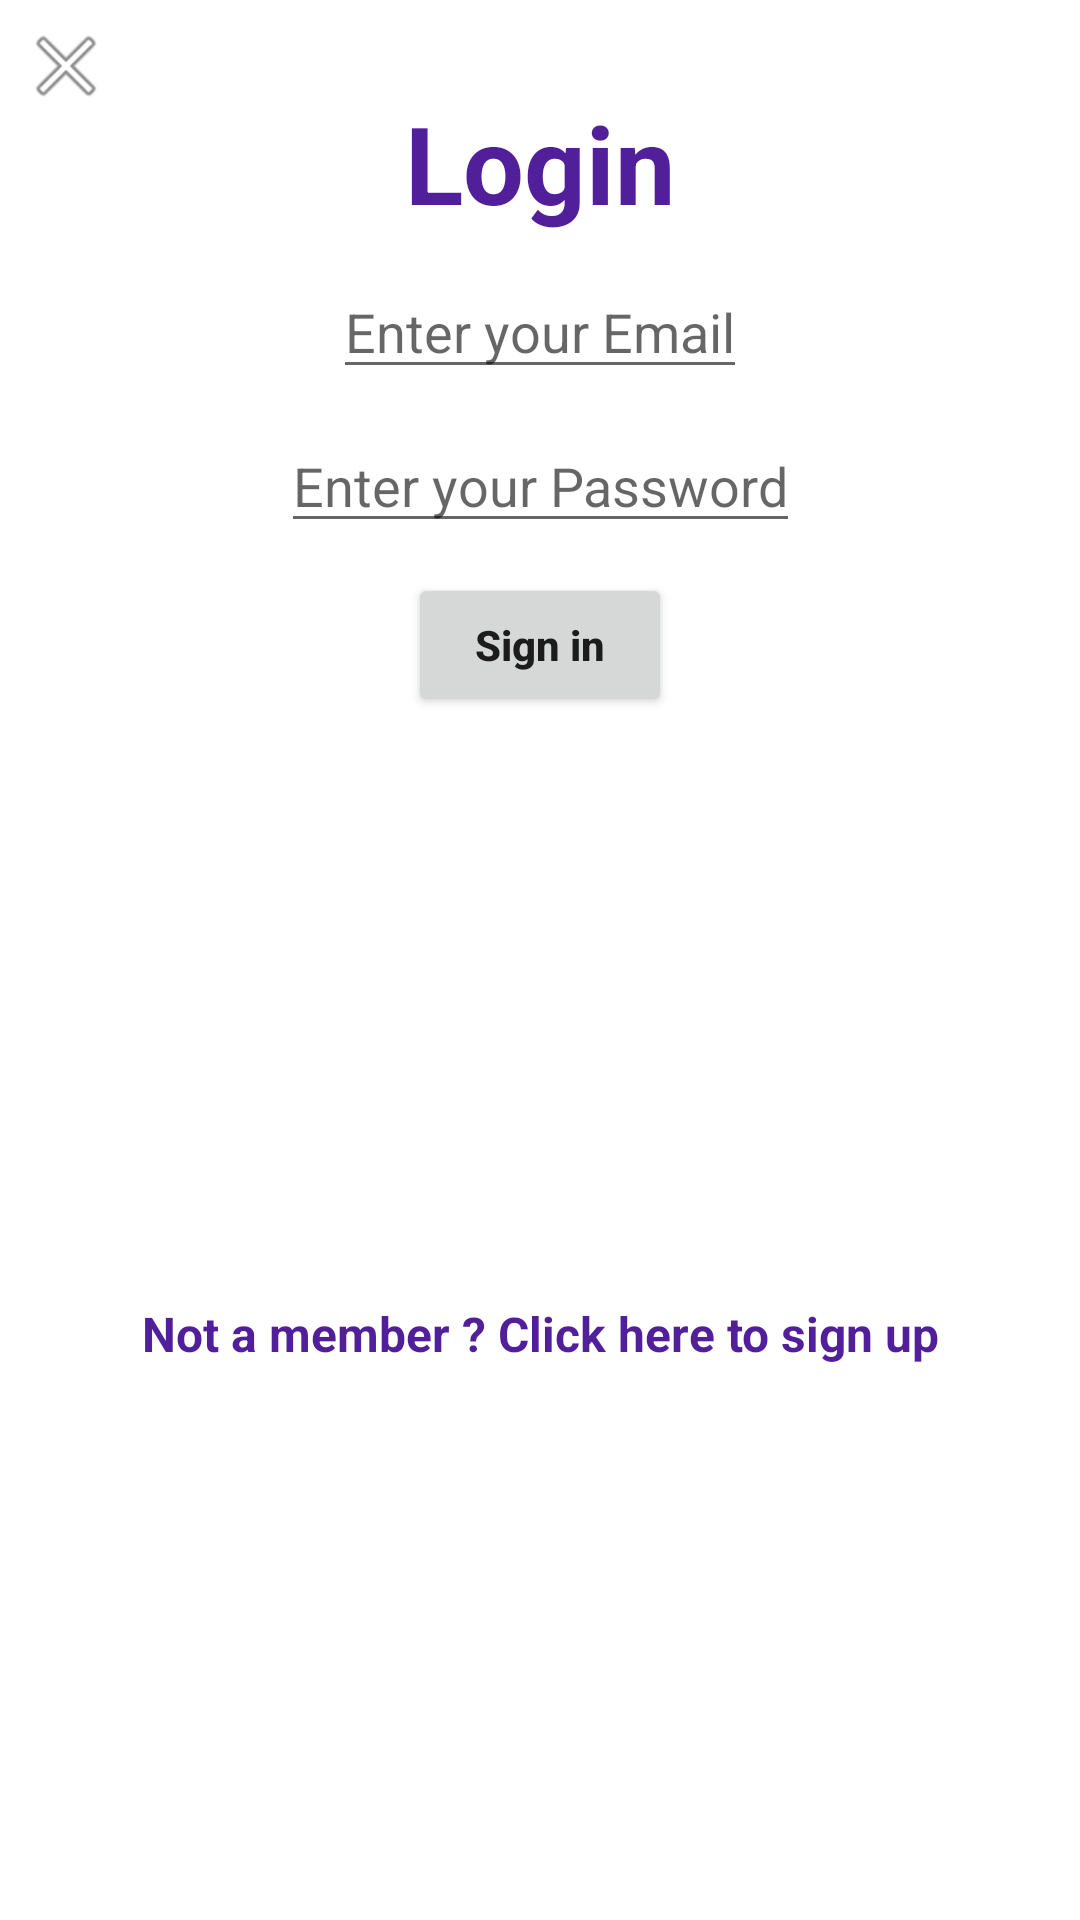

Icon click points for this 1080px×1920px phone screenshot, format point (x, y):
close clear cancel: point (66, 66)
